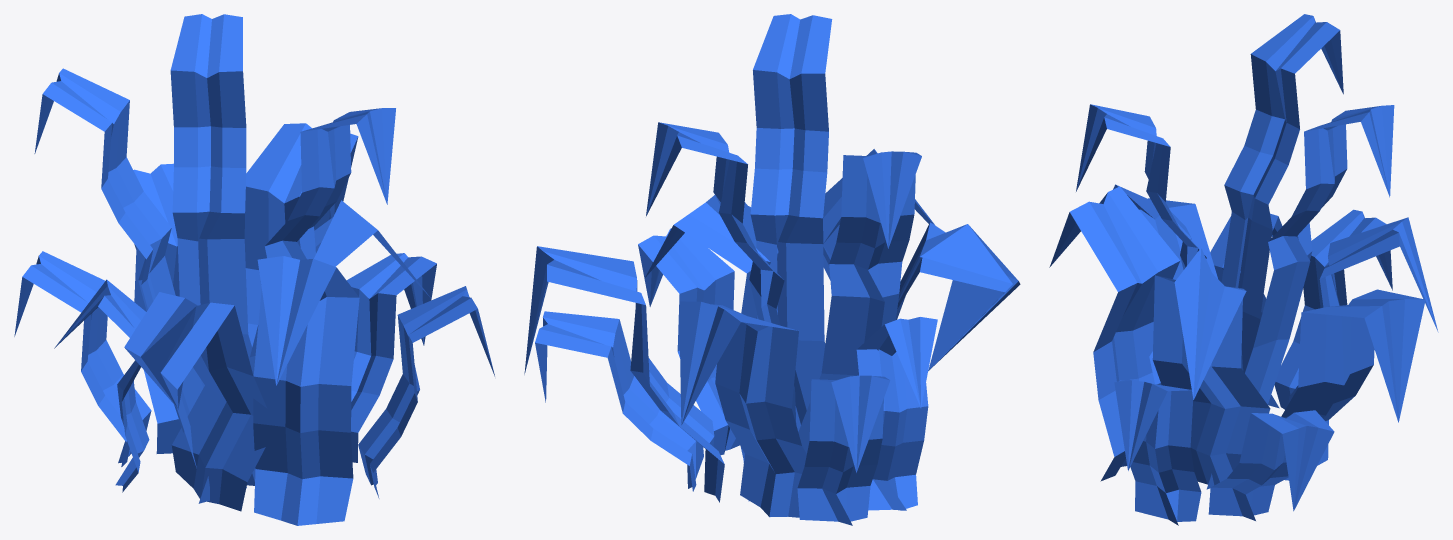
The model's file is seaweed2_blue.glb.
3 renders of one model, left to right at view 1: azimuth 30°, elevation 25°; view 2: azimuth 150°, elevation 25°; view 3: azimuth 270°, elevation 25°, orthographic. The views are drawn at different scales.
Parts seen in each view (by area): view 1: Plane; view 2: Plane; view 3: Plane.
Boxes of the visible parts, box(x1,y1,x2,y2) form: Plane: box(14, 14, 494, 525); Plane: box(524, 14, 1020, 525); Plane: box(1049, 14, 1438, 525).
Size of the model in its own units: 39.2 by 40.59 by 36.27.
